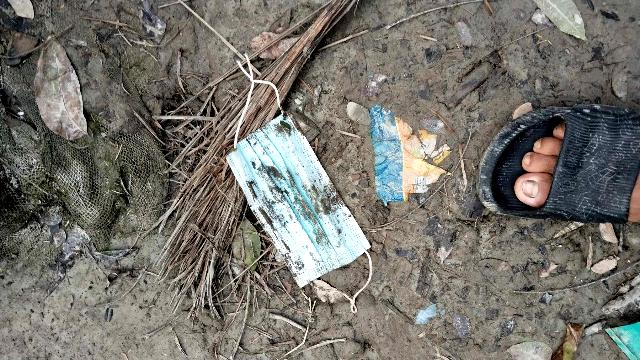mask: (213, 62, 376, 316)
